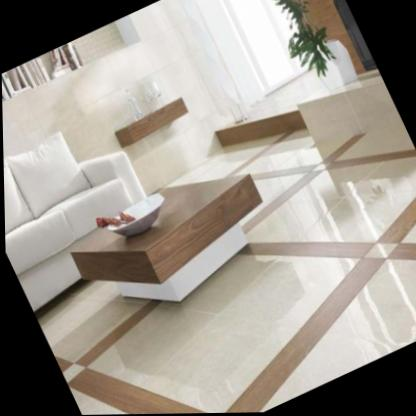Ceramic floor: (34, 148, 416, 415)
Sofa: (2, 106, 169, 310)
